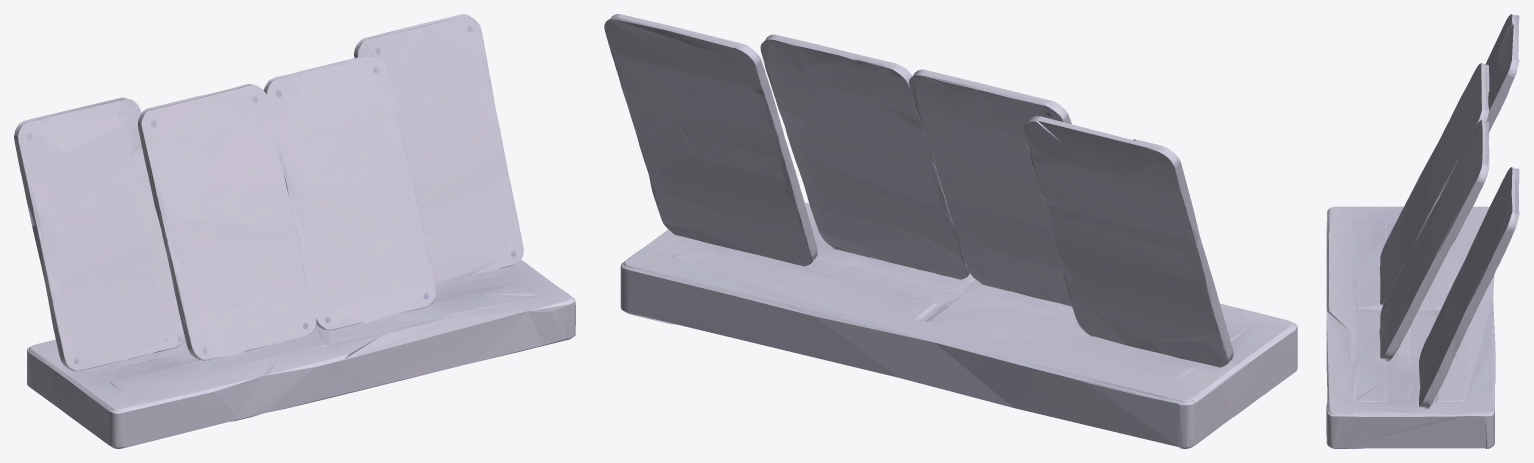
The model's file is claim-card-stand.gltf.
The picture shows the model from 3 angles, left to right: view 1: azimuth 30°, elevation 25°; view 2: azimuth 150°, elevation 25°; view 3: azimuth 270°, elevation 25°; orthographic projection. The views are drawn at different scales.
Bounding box in the file's own units: 1.9 × 0.988 × 0.7431.
Materials: 1 (1 with a texture image).
